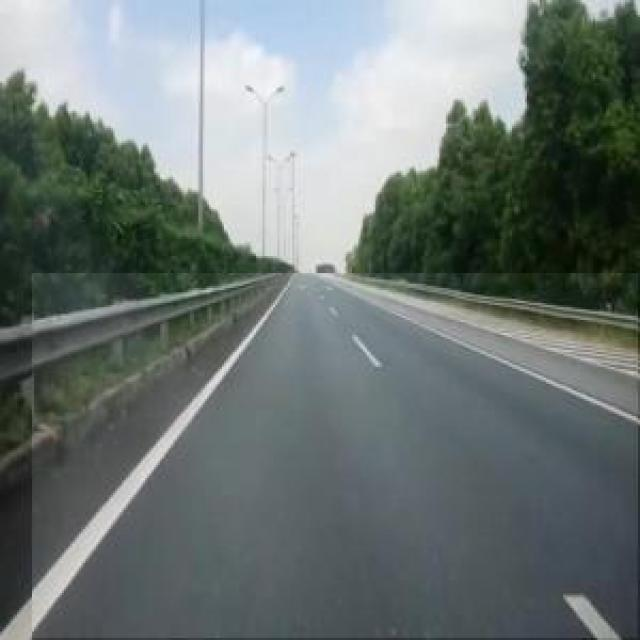clear-road: (34, 275, 638, 638)
